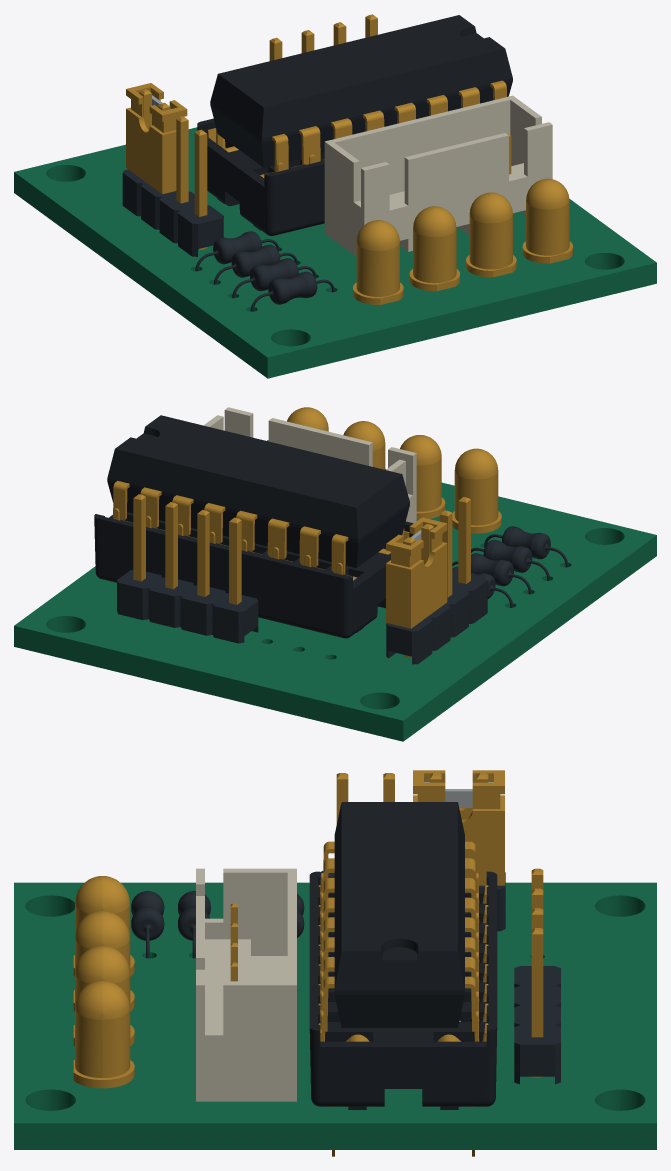
The model's file is stepper_driver.glb.
The picture shows the model from 3 angles, top to bottom: view 1: azimuth 30°, elevation 25°; view 2: azimuth 150°, elevation 25°; view 3: azimuth 270°, elevation 25°; orthographic projection. The views are drawn at different scales.
Bounding box in the file's own units: 31 × 12.67 × 35.
